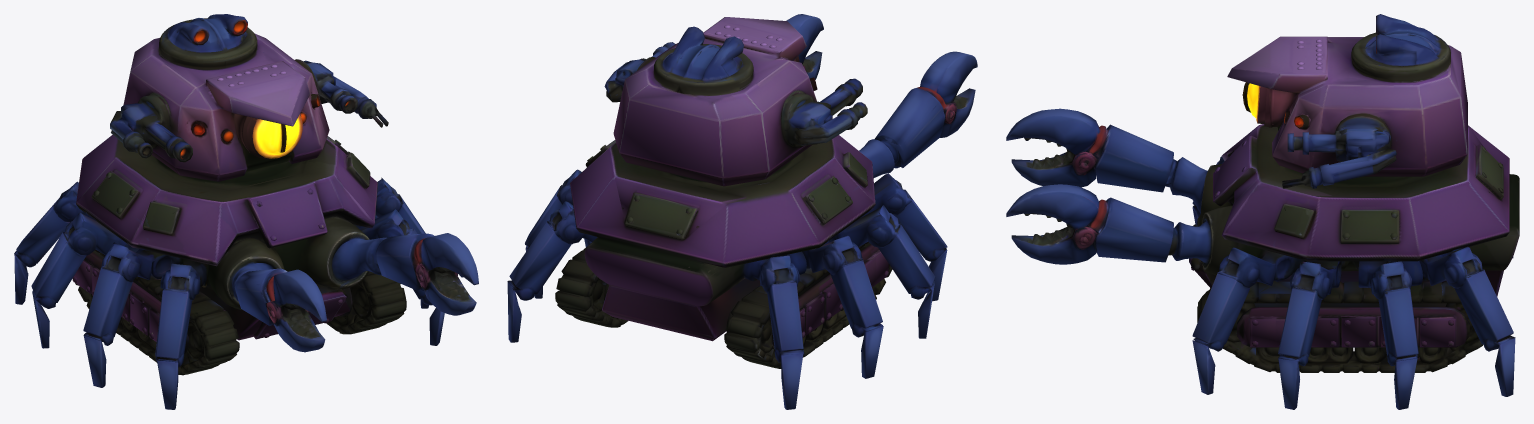
The model's file is VAL_SnarkTANK_Em.glb.
3 views of the same model, side by side, from view 1: azimuth 30°, elevation 25°; view 2: azimuth 150°, elevation 25°; view 3: azimuth 270°, elevation 25° (orthographic). The views are drawn at different scales.
Visible parts, largest first — view 1: material; view 2: material; view 3: material.
Boxes of the visible parts, left/top/right/bottom form: material: left=14, top=14, right=478, bottom=409; material: left=507, top=14, right=977, bottom=409; material: left=1006, top=14, right=1519, bottom=409.
Bounding box in the file's own units: 1.62 × 1.3 × 2.
Materials: 1 (1 with a texture image).
